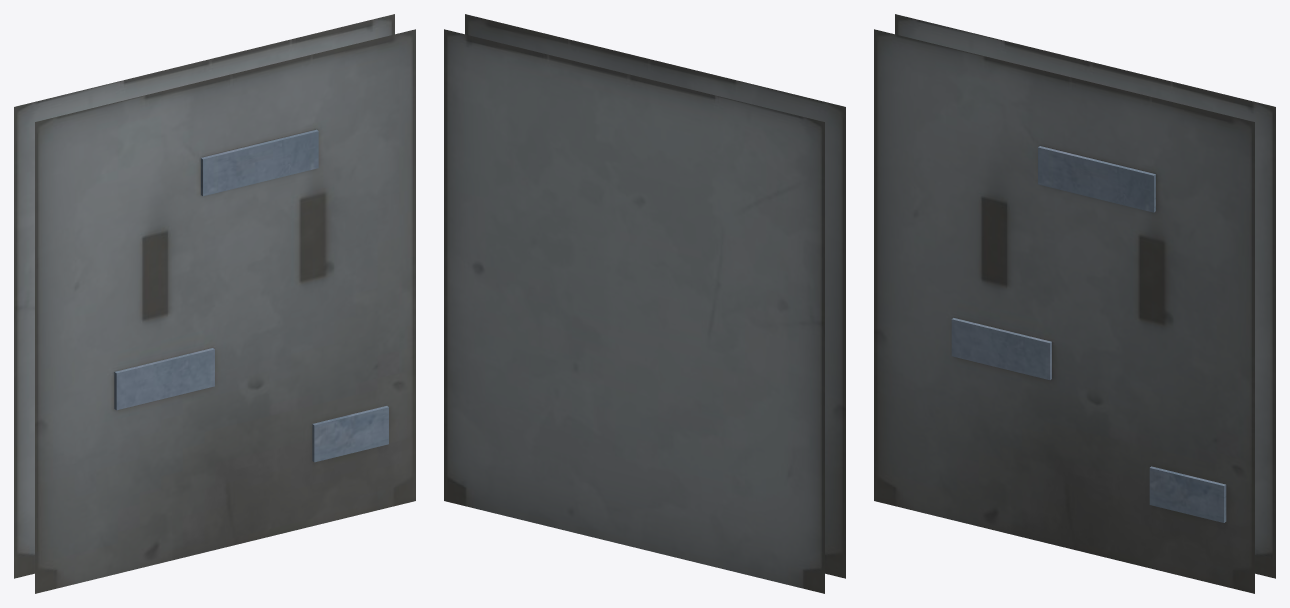
File: room_wall.gltf
3 views of the same model, side by side, from view 1: azimuth 30°, elevation 25°; view 2: azimuth 150°, elevation 25°; view 3: azimuth 330°, elevation 25° (orthographic).
Visible parts, largest first — view 1: room_wall; view 2: room_wall; view 3: room_wall.
Boxes of the visible parts, x1,y1,x2,y2 form: room_wall: [14, 14, 415, 593]; room_wall: [444, 14, 845, 593]; room_wall: [874, 14, 1275, 593].
Bounding box in the file's own units: 16.94 × 20.04 × 1.76.
2 materials, 2 textured.
